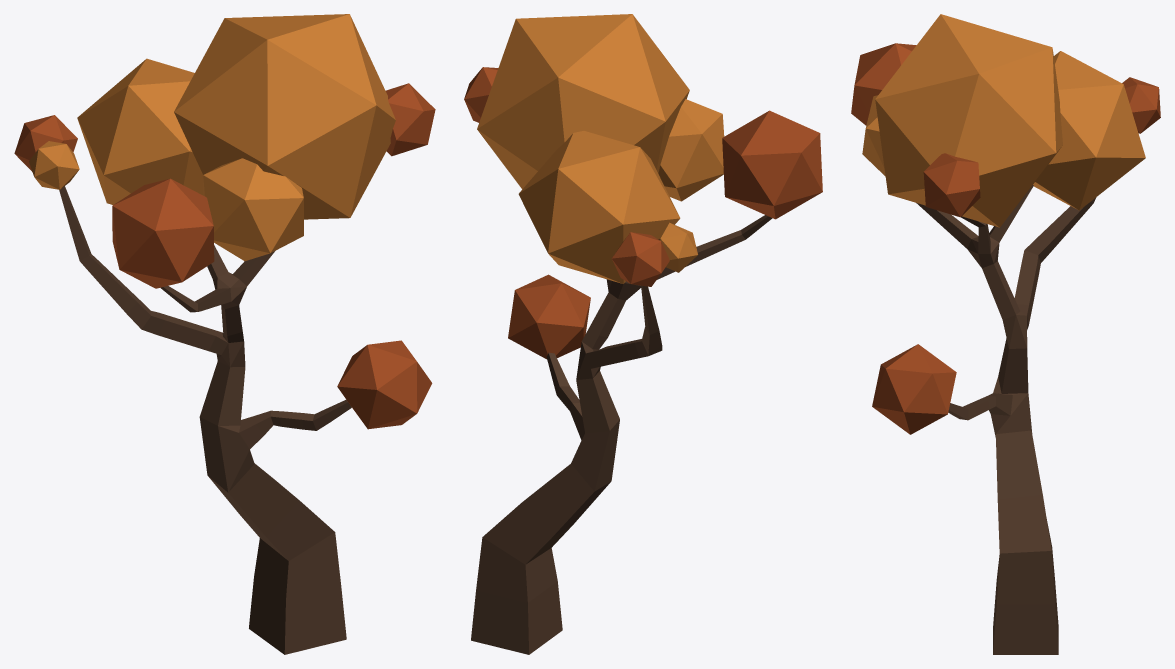
File: ico_tree_orange3.glb
3 views of the same model, side by side, from view 1: azimuth 30°, elevation 25°; view 2: azimuth 150°, elevation 25°; view 3: azimuth 270°, elevation 25° (orthographic). The views are drawn at different scales.
Visible parts, largest first — view 1: Icosphere.025, Cube.008, Icosphere.021, Icosphere.020, Icosphere.022, Icosphere.024, Icosphere.023, Icosphere.019, Icosphere.018; view 2: Icosphere.025, Cube.008, Icosphere.021, Icosphere.020, Icosphere.024, Icosphere.022, Icosphere.018, Icosphere.019, Icosphere.023; view 3: Icosphere.025, Cube.008, Icosphere.021, Icosphere.024, Icosphere.023, Icosphere.020, Icosphere.018, Icosphere.022.
Boxes of the visible parts, x1,y1,x2,y2 form: Icosphere.025: (174, 14, 395, 219); Cube.008: (59, 186, 351, 654); Icosphere.021: (77, 58, 203, 204); Icosphere.020: (112, 178, 214, 288); Icosphere.022: (203, 158, 303, 261); Icosphere.024: (337, 340, 432, 429); Icosphere.023: (386, 83, 435, 156); Icosphere.019: (29, 141, 79, 189); Icosphere.018: (14, 115, 77, 171); Icosphere.025: (477, 14, 689, 189); Cube.008: (471, 215, 772, 654); Icosphere.021: (518, 131, 680, 283); Icosphere.020: (722, 110, 822, 219); Icosphere.024: (508, 274, 590, 359); Icosphere.022: (658, 99, 724, 201); Icosphere.018: (612, 232, 669, 286); Icosphere.019: (654, 222, 697, 272); Icosphere.023: (464, 67, 498, 122); Icosphere.025: (875, 14, 1062, 227); Cube.008: (916, 185, 1096, 654); Icosphere.021: (1033, 51, 1145, 210); Icosphere.024: (872, 344, 956, 434); Icosphere.023: (923, 153, 980, 217); Icosphere.020: (851, 43, 916, 125); Icosphere.018: (1122, 77, 1160, 133); Icosphere.022: (862, 95, 885, 176).
Size of the model in its own units: 5.77 by 10.29 by 4.87.
